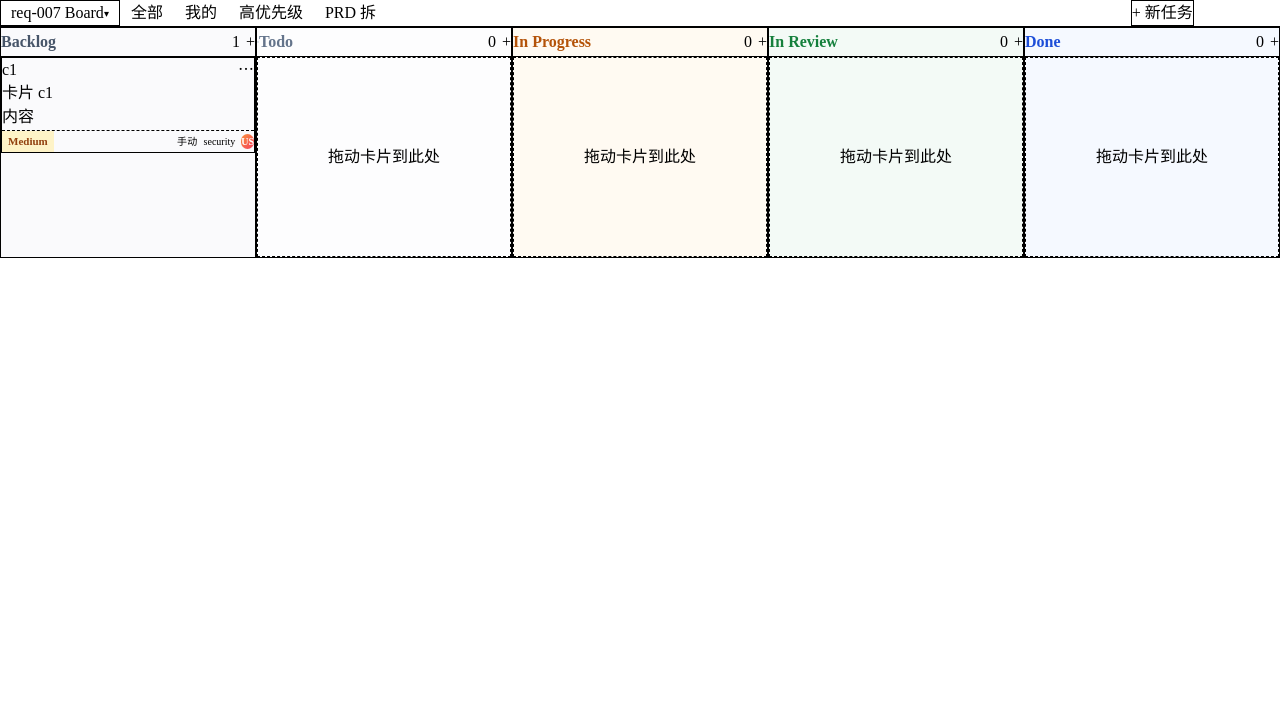
Test case: BoardSection · NewTaskModal › 列头 + → 打开 modal(预填该列 status)
# 点 in_progress 列的 +(index 2)
Step 1. Click the button with test id "board-column-add" in the row of "In Progress" → (762, 42), box [758,34,767,50]
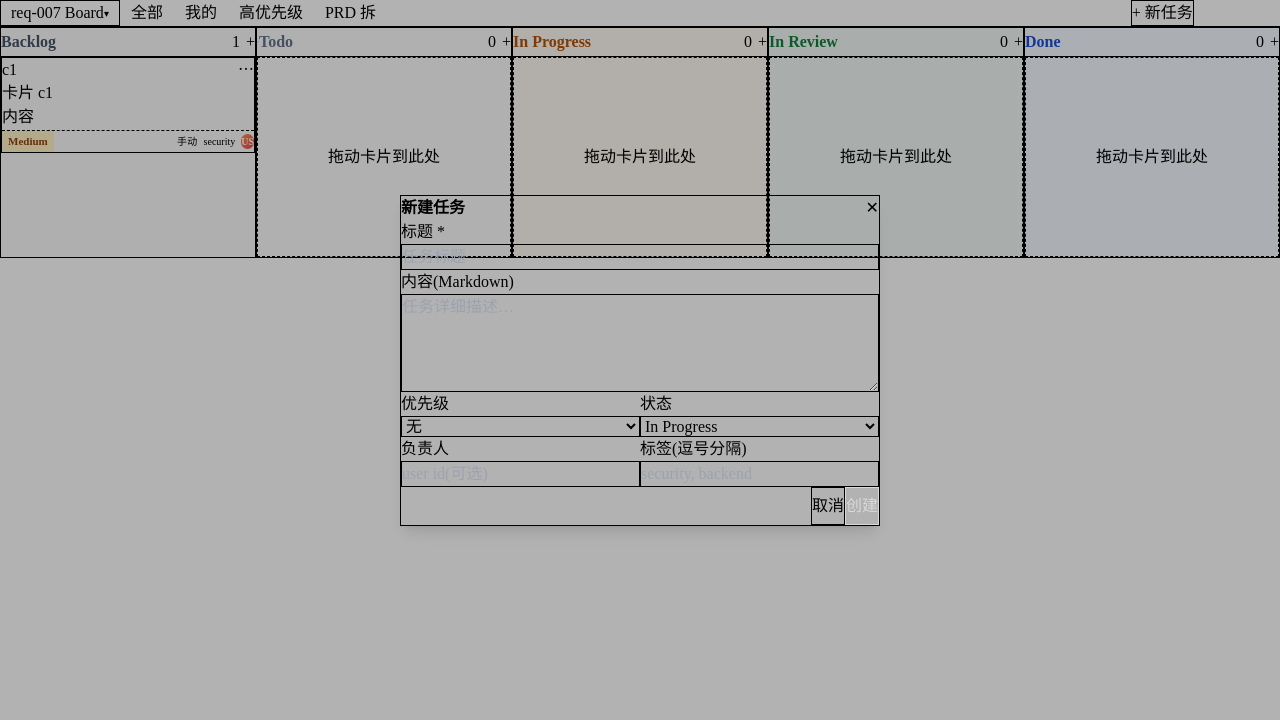
Expected: the element with test id "board-new-task-modal" is shown
Expected: the dropdown with test id "board-new-task-status" shows "In Progress", [640,416,879,436]
